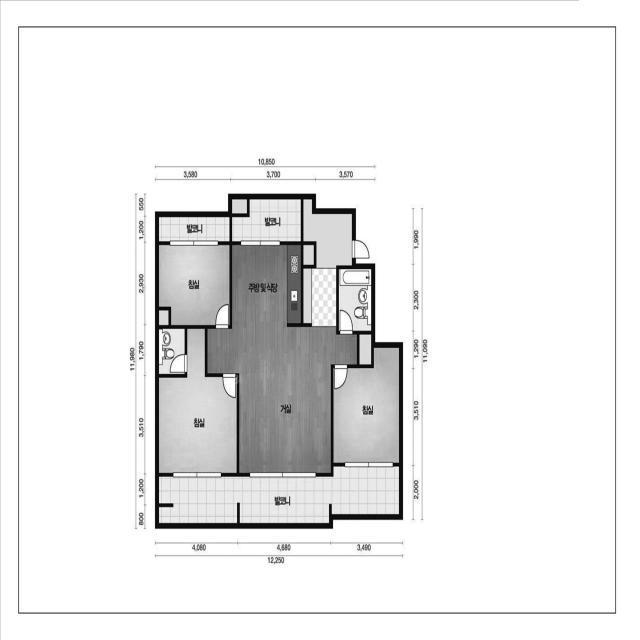background: (0, 0, 640, 640)
space_balconi: (159, 466, 399, 523), (232, 199, 301, 242), (159, 217, 230, 242)
space_bedroom: (159, 328, 237, 473), (333, 348, 399, 463), (159, 245, 230, 325)
space_front: (303, 199, 352, 326)
space_kitchen: (232, 245, 301, 323)
space_living_room: (207, 327, 357, 473)
space_other: (359, 334, 372, 365), (232, 199, 247, 214), (303, 245, 314, 265), (159, 310, 169, 326)
space_toilet: (339, 269, 371, 331), (159, 328, 185, 374)
